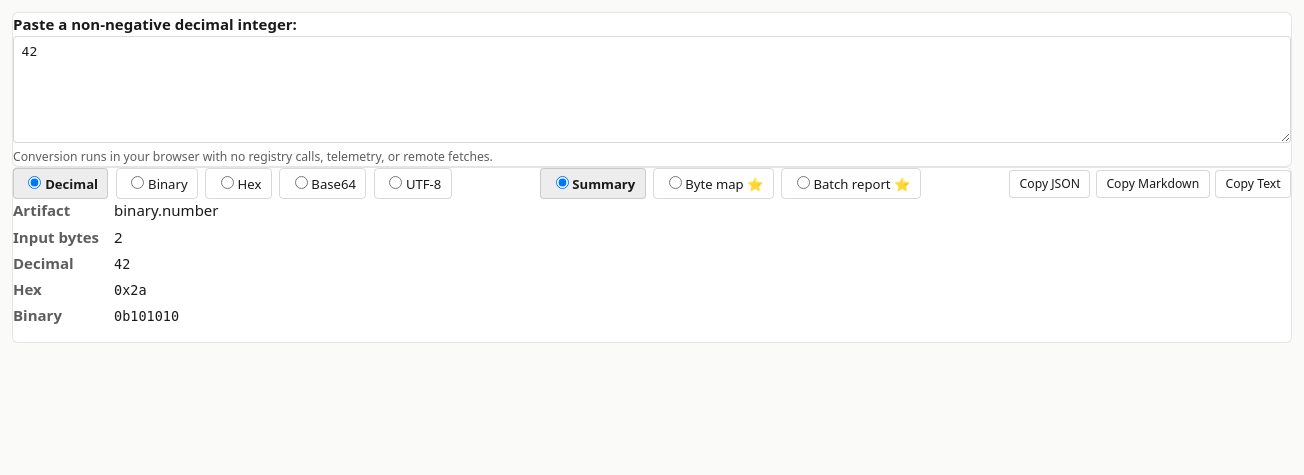
it: BinaryApp › unlocks the batch report via an injected Pro entitlement and the view switcher
Click the radio button with test id "binary-view-batch-report" at coordinates (803, 182), box [797,176,810,189]
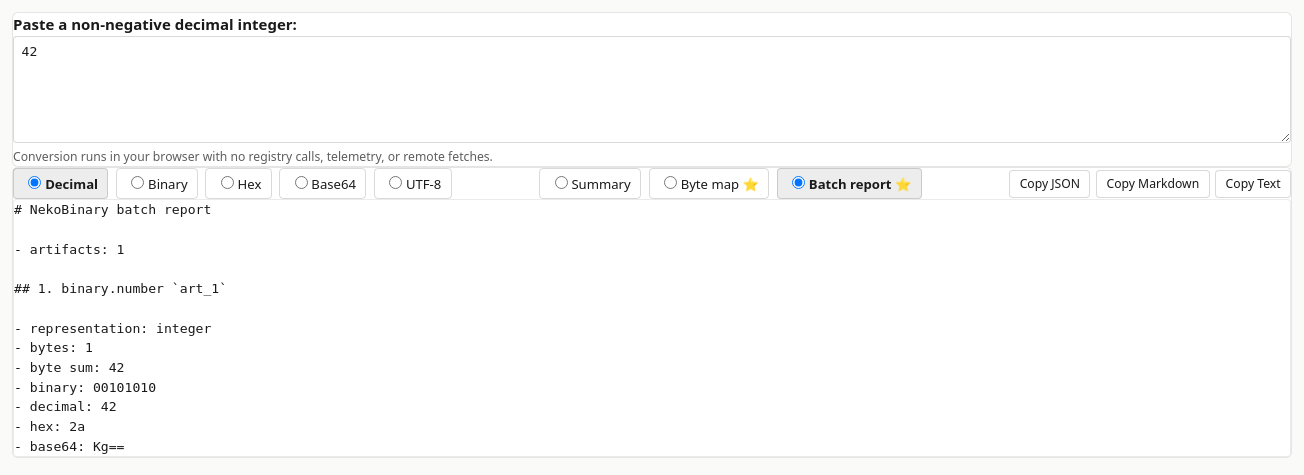
Now the text with test id "binary-pro-output" shows "# NekoBinary batch report", box [14,202,227,454]
